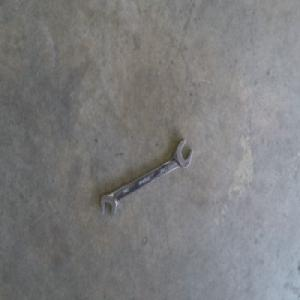Wrench: (100, 139, 193, 218)
